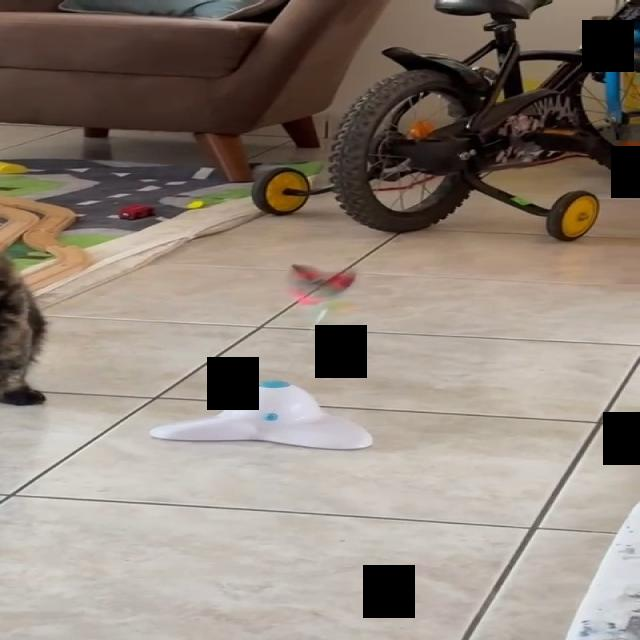authorized: (0, 250, 49, 405)
